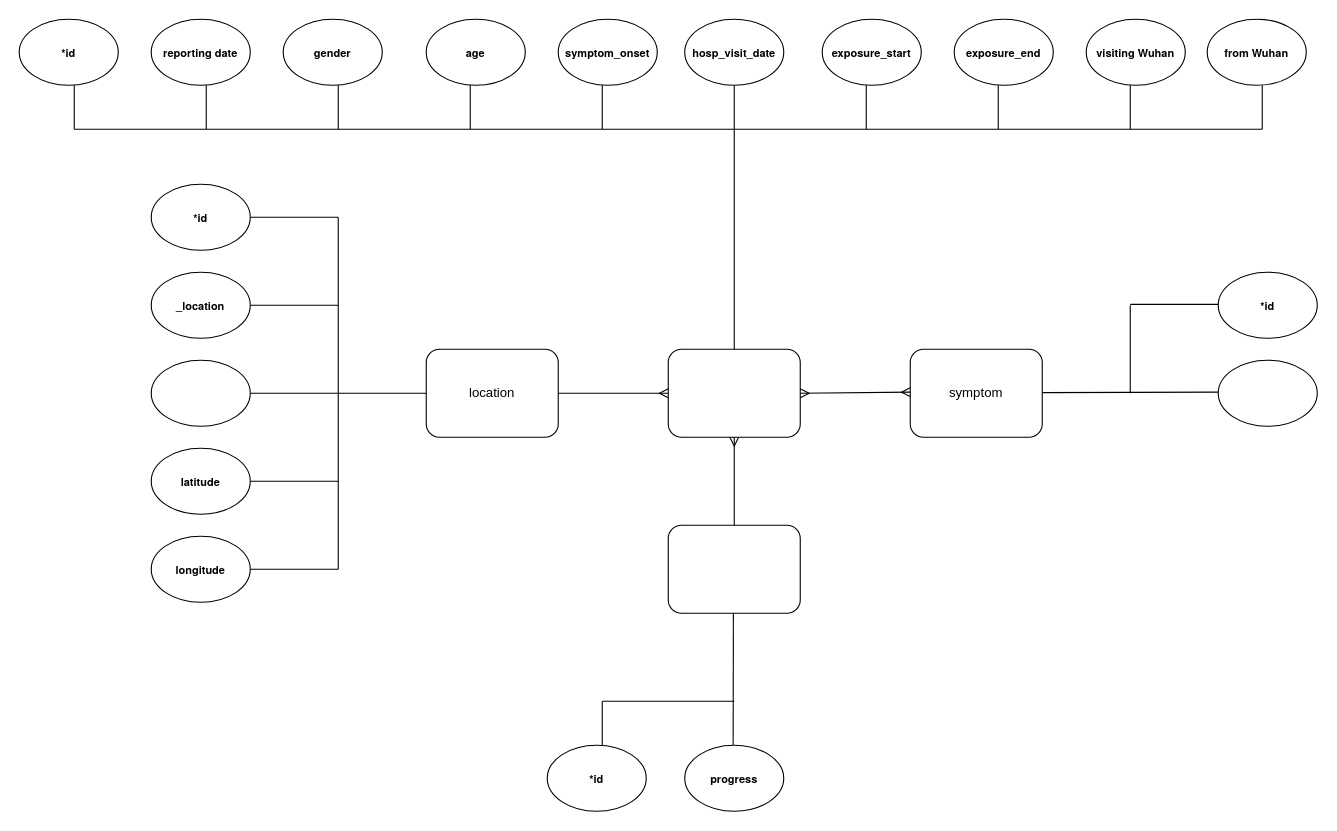
This 1337x831 diagram has some shape labels left out. Here are the shapes that lost their labels. From the top down, the centre of each, then its label:
At (x=200, y=392): "country".
At (x=733, y=392): "person".
At (x=1267, y=392): "name".
At (x=733, y=568): "status".
